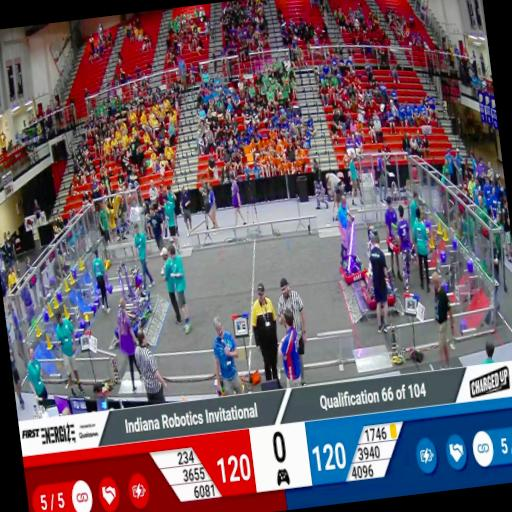robot: (353, 220, 397, 310), (332, 208, 370, 284), (112, 262, 152, 322), (112, 303, 146, 342), (126, 266, 152, 306), (386, 220, 412, 256)
